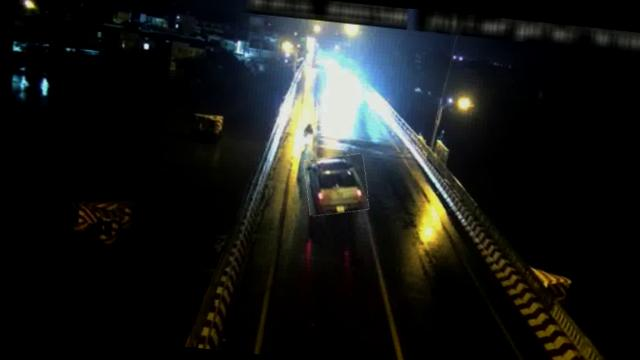Car: (301, 152, 372, 220)
